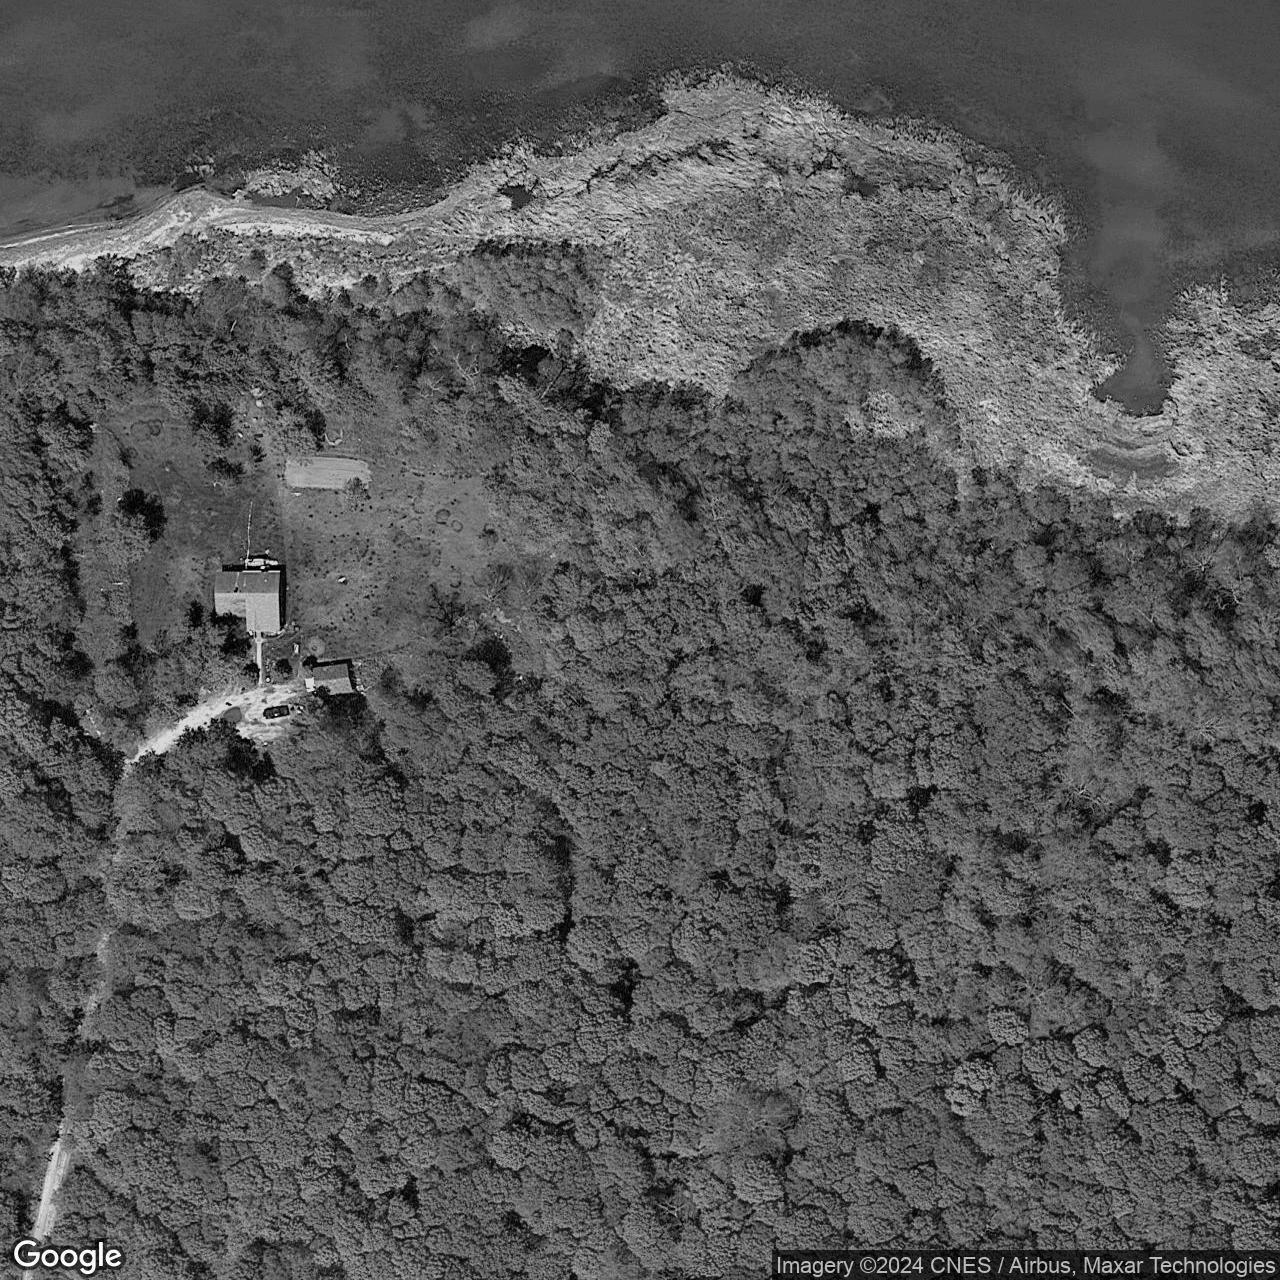Garage: (312, 662, 353, 697)
House: (215, 570, 280, 632)
